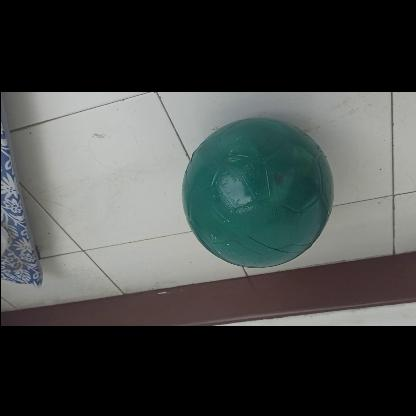green_ball: (184, 120, 334, 268)
